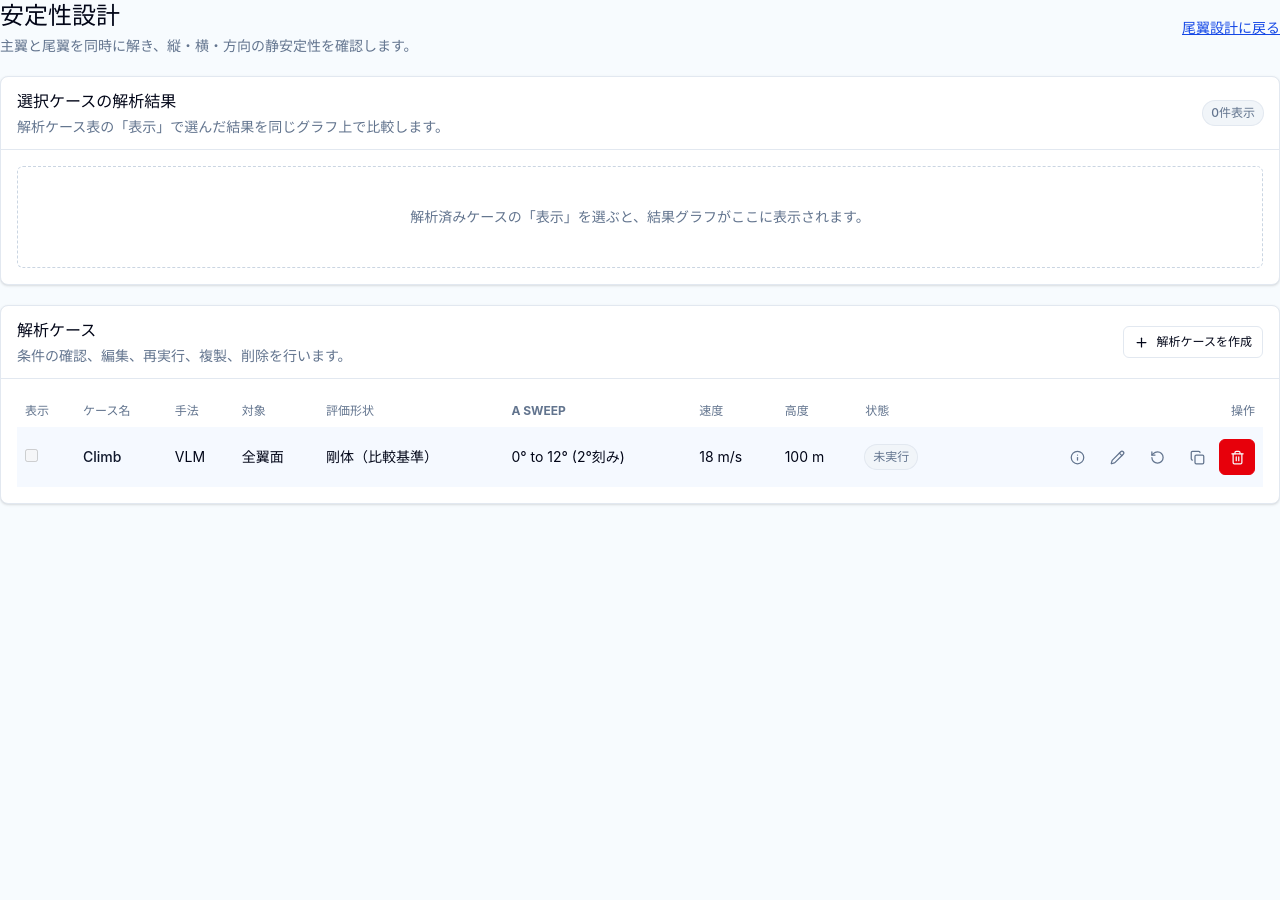
Test: AnalysisPage › shows whole-aircraft trim and stability without a per-surface contribution table
Click the button named "Climbを詳細表示": [1077, 457] box [1059,439,1095,475]
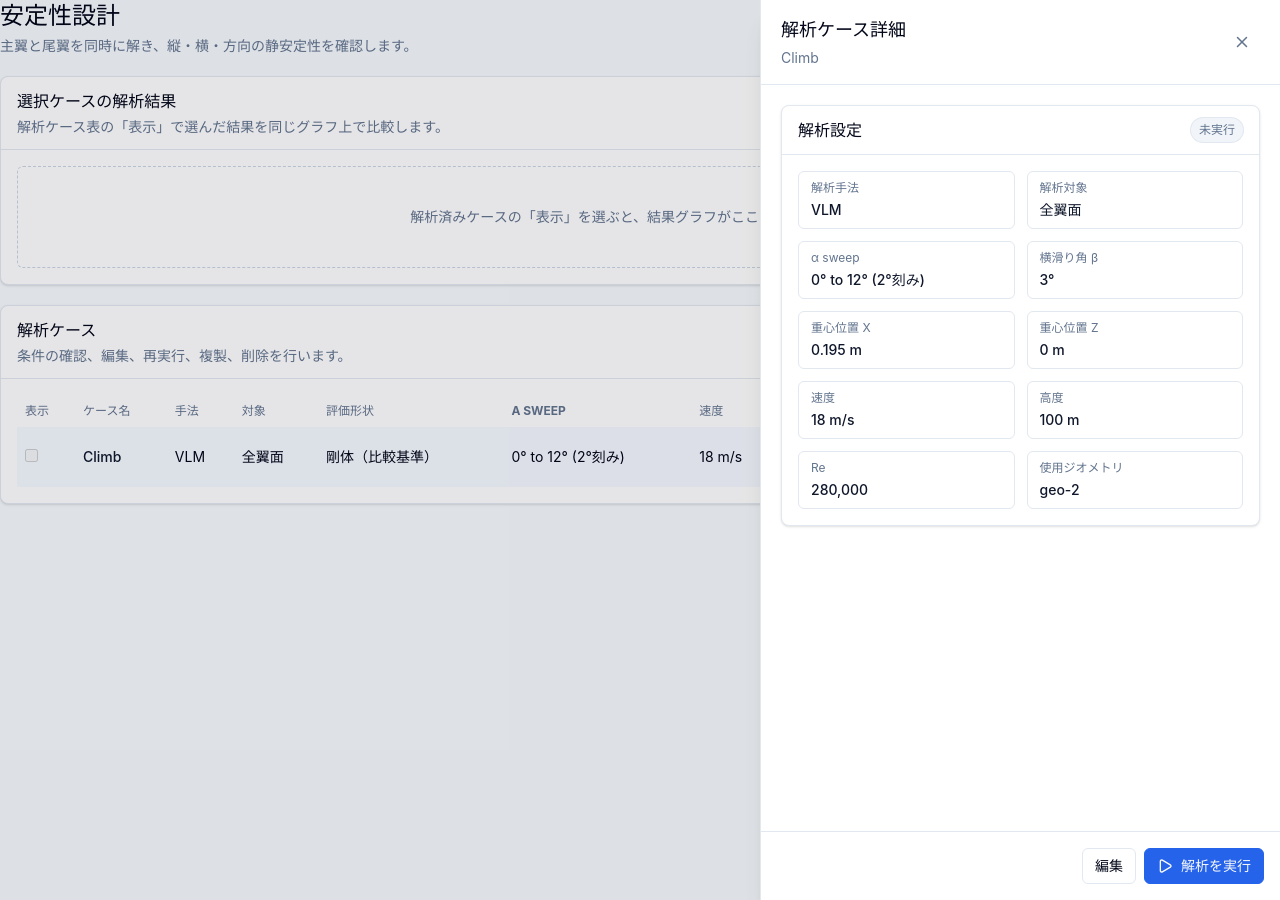
Click the button with aria-label "Climbを解析": [1204, 866] box [1144,848,1264,884]
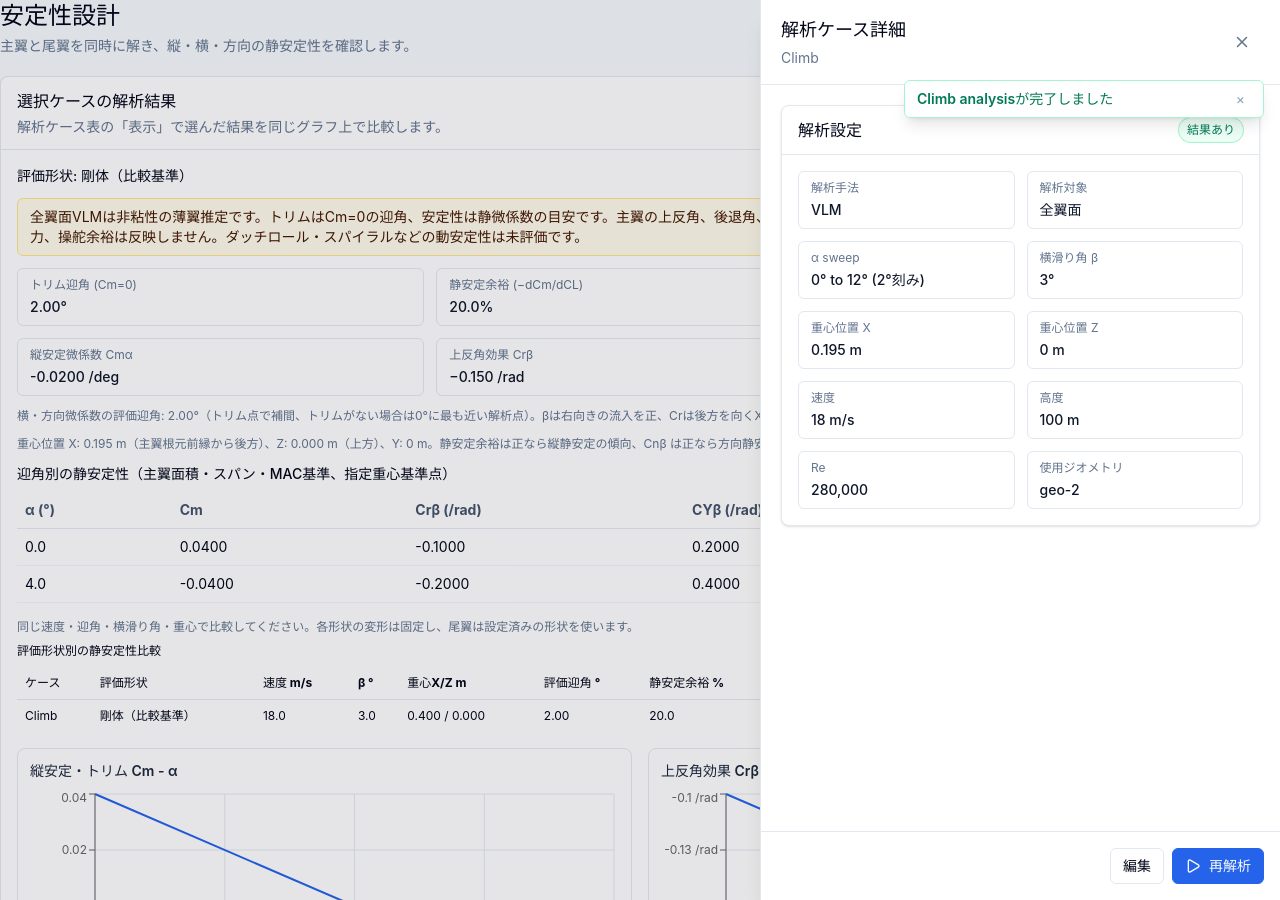
Expected: the text "迎角別の静安定性（主翼面積・スパン・MAC基準、指定重心基準点）" is shown, [17,465,456,482]
Expected: the text "トリム迎角 (Cm=0)" is shown, [30,277,137,292]
Expected: the text "2.00°" is shown, [30,298,67,315]
